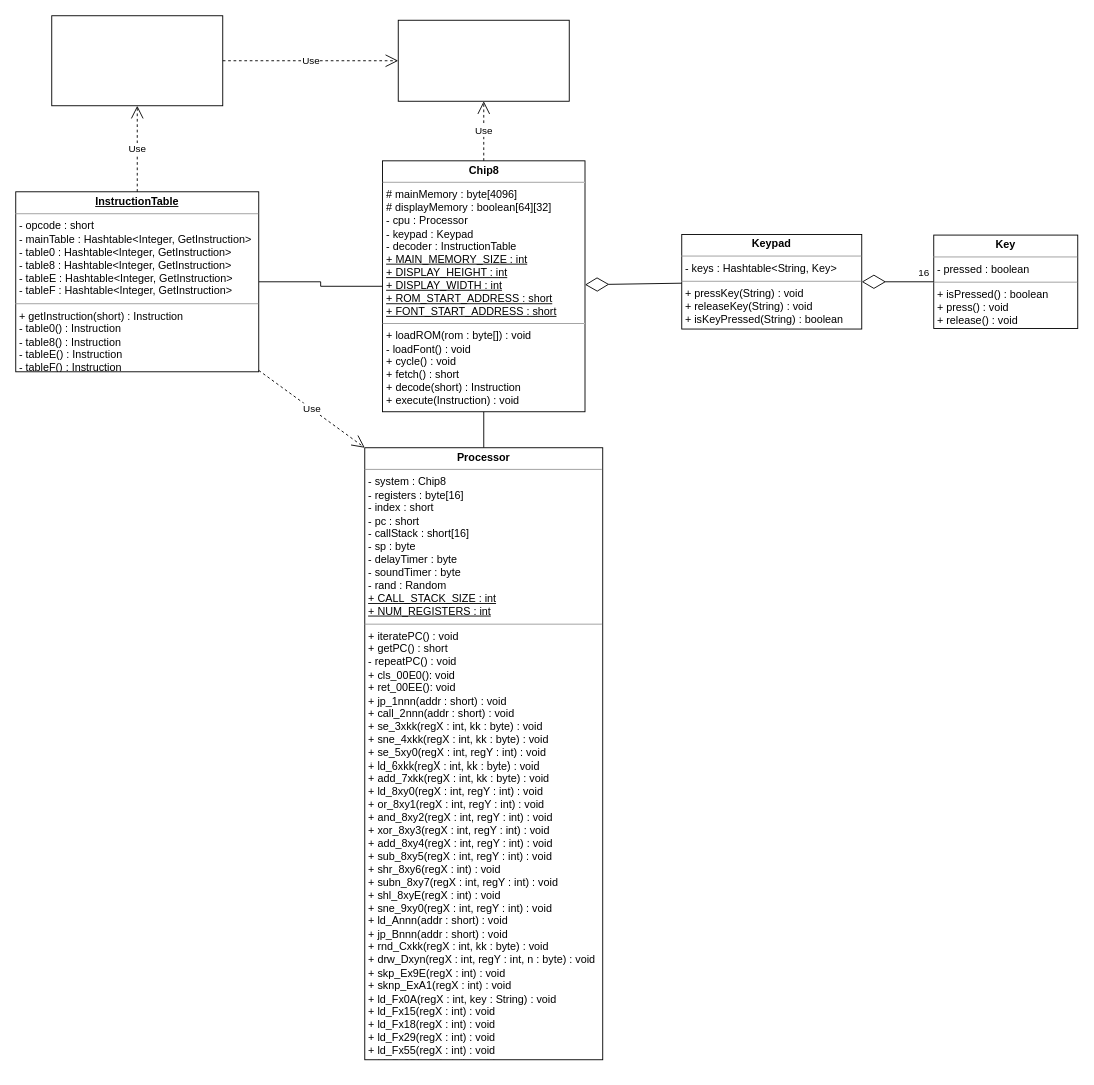
This 1094x1085 diagram has some shape labels left out. Each missing label, with the centre of its shape:
"<<Interface>> Instruction + do() : void" belongs at (483,60).
"<<Interface>> InstructionGetter + getInstruction() : Instruction" belongs at (137,60).
